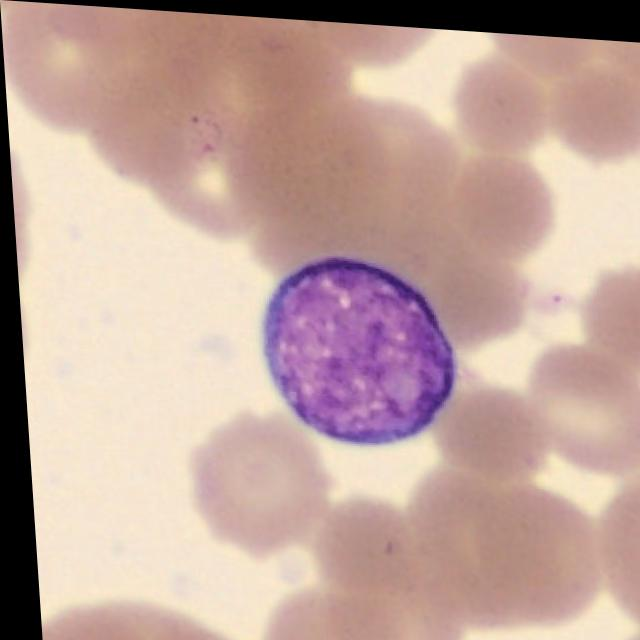Linfocito: (256, 250, 454, 442)
